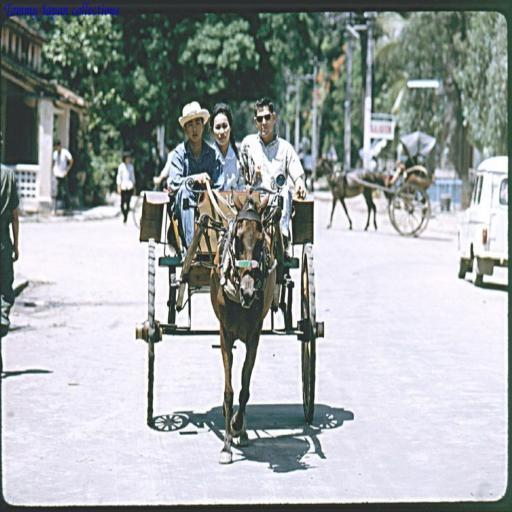horse: (210, 186, 277, 461), (308, 152, 382, 228)
